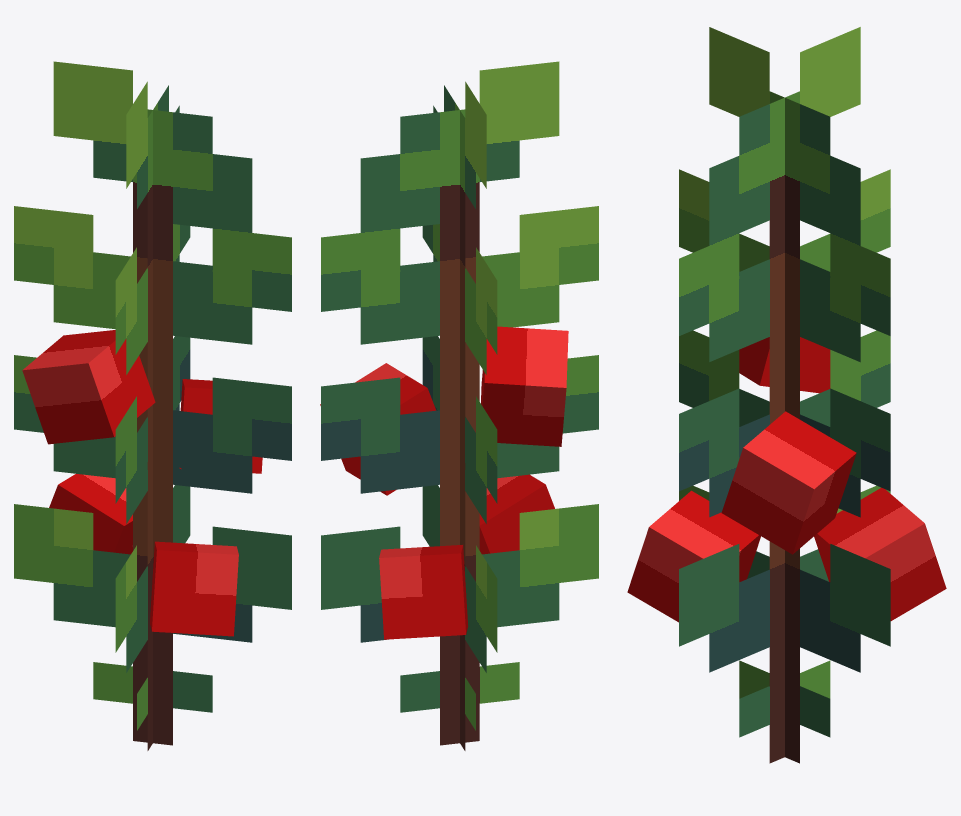
Rendered from cranberry-stage4.gltf.
3 views of the same model, side by side, from view 1: azimuth 30°, elevation 25°; view 2: azimuth 150°, elevation 25°; view 3: azimuth 270°, elevation 25° (orthographic). The views are drawn at different scales.
Visible parts, largest first — view 1: cube (×6); view 2: cube (×6); view 3: cube (×6).
Part boxes in pixels (left/top/right/bottom): cube (×6): left=14, top=61, right=291, bottom=750; cube (×6): left=320, top=61, right=598, bottom=750; cube (×6): left=627, top=27, right=946, bottom=763.
Bounding box in the file's own units: 0.4292 × 1.12 × 0.4662.
Materials: 1 (1 with a texture image).
